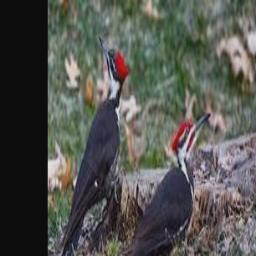Woodpecker: (56, 37, 130, 256), (121, 112, 210, 256)
